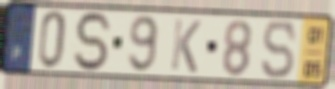0: (39, 9, 72, 72)
8: (222, 18, 255, 78)
9: (127, 14, 161, 75)
K: (169, 17, 204, 76)
S: (73, 10, 115, 74), (261, 18, 299, 81)
